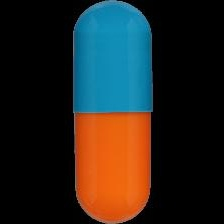0093-7334: (0, 0, 224, 224)
